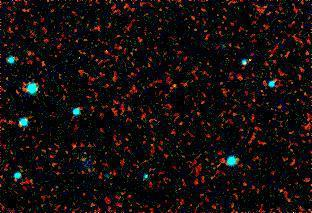star: (161, 71, 191, 101)
